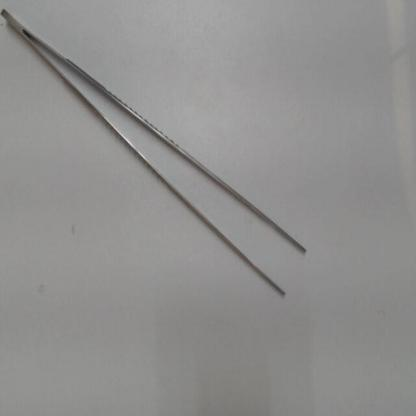DeBakey Dissector: (0, 4, 322, 315)
